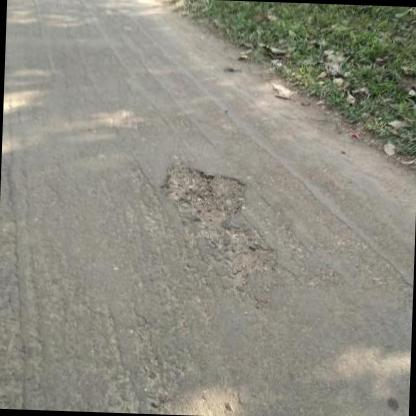pothole: (157, 162, 254, 225), (221, 224, 282, 286)
